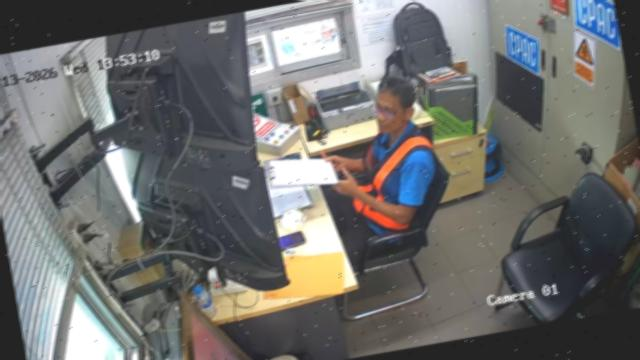Head: (373, 76, 418, 133)
People: (320, 77, 438, 265)
Phone: (277, 231, 306, 249)
